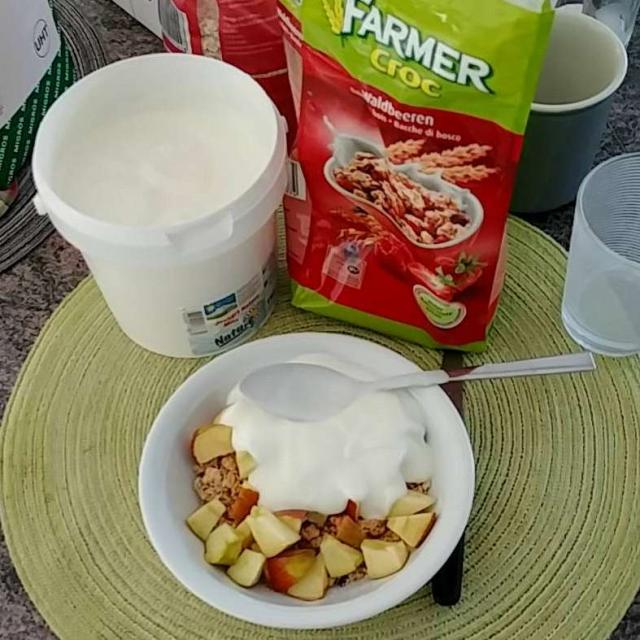apple: (190, 451, 433, 598)
yaourt-yahourt-yogourt-ou-yoghourt-natural: (238, 366, 431, 518)
